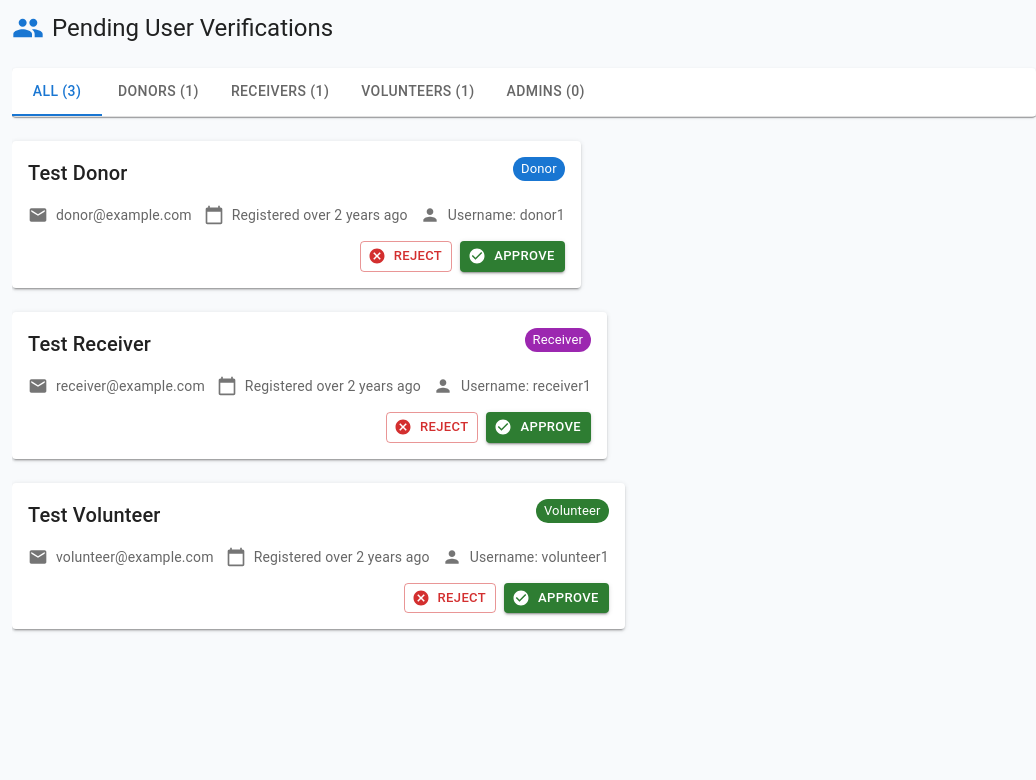
Scenario: UserVerificationList › should remove user from list after successful verification
The width and height of the screenshot is (1036, 780).
Expected: the text "Test Donor" is shown, [28,157,128,189]
# Click approve button
Click the button "Approve" below "donor1" at [512, 256], box [460,241,565,272]
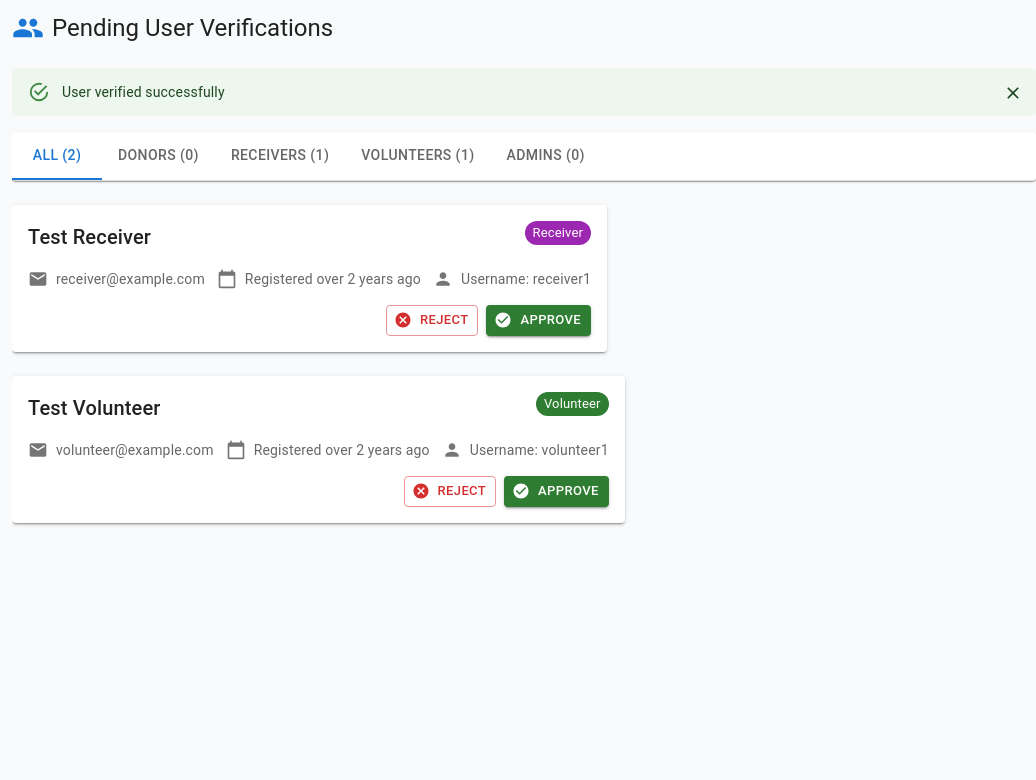
Expected: the text "User verified successfully" is shown, [62,84,225,100]
